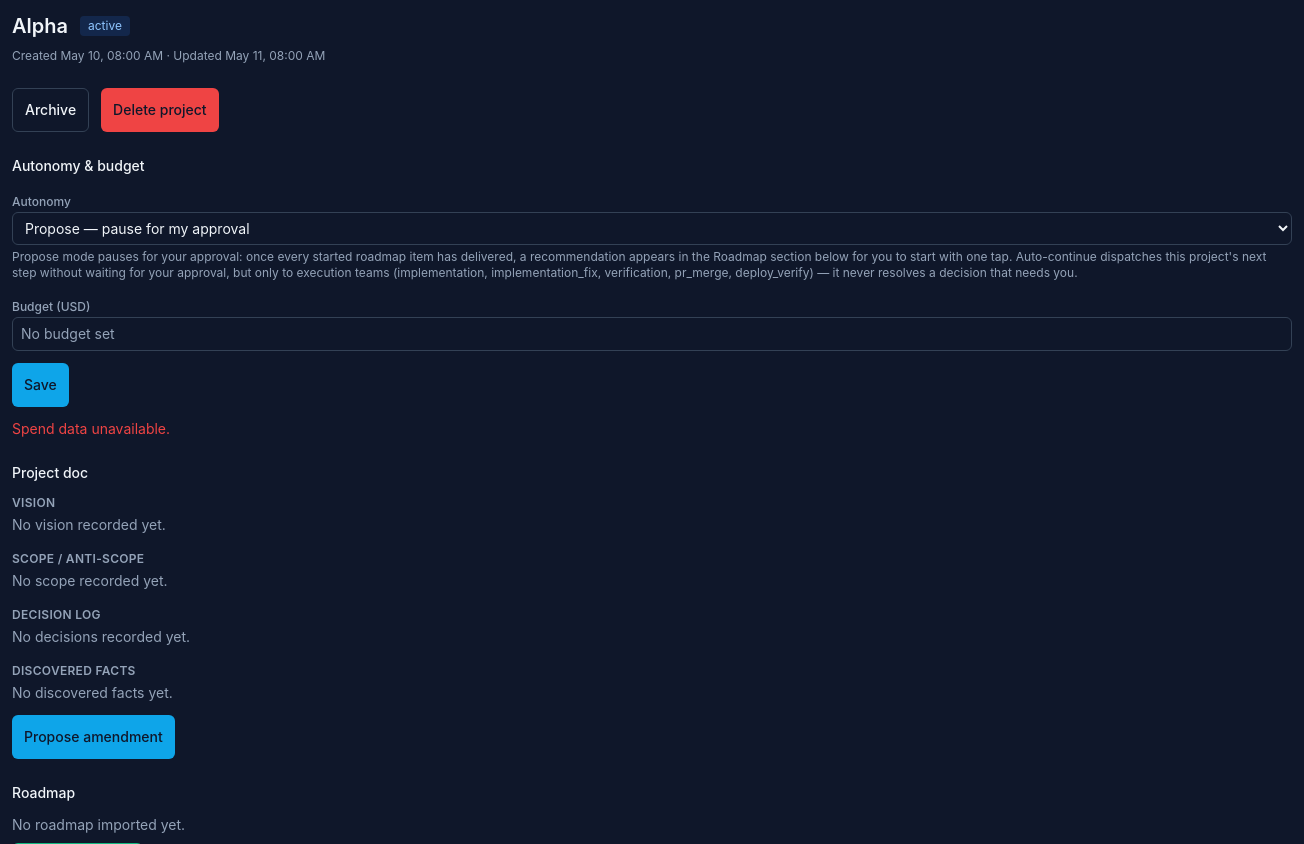
Test: Project › autonomy + budget editor › surfaces a server error when saving fails
Expected: the heading "Alpha" is shown, x1=12 y1=12 x2=68 y2=40
Click the button with test id "project-autonomy-save" at {"x": 40, "y": 385}, box x1=12 y1=363 x2=69 y2=407
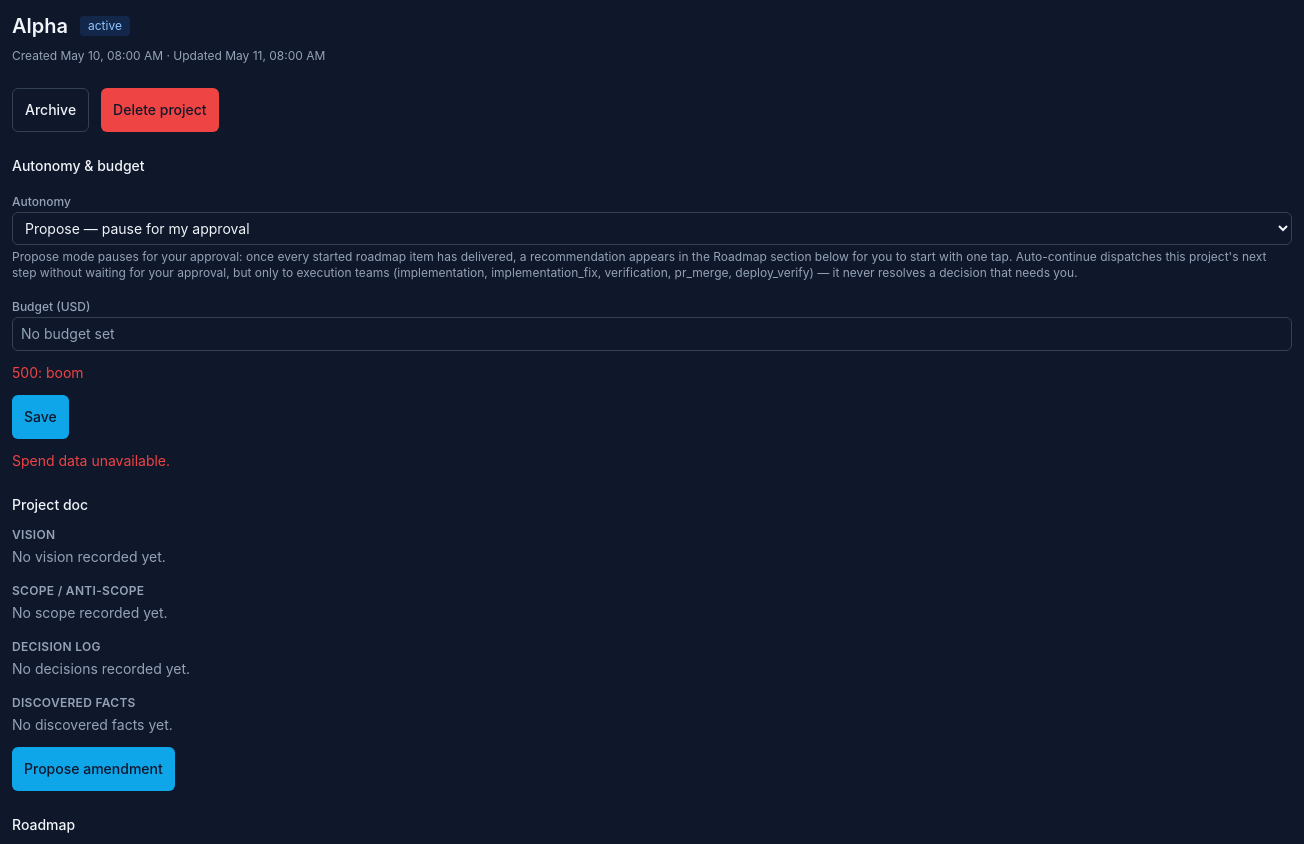
Now the message with test id "project-autonomy-error" shows "500", box x1=12 y1=364 x2=84 y2=381
